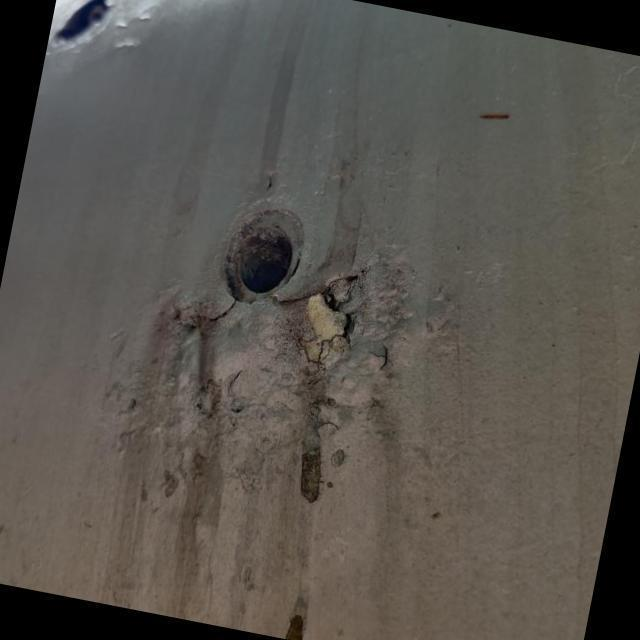Rupture: (262, 254, 394, 386)
